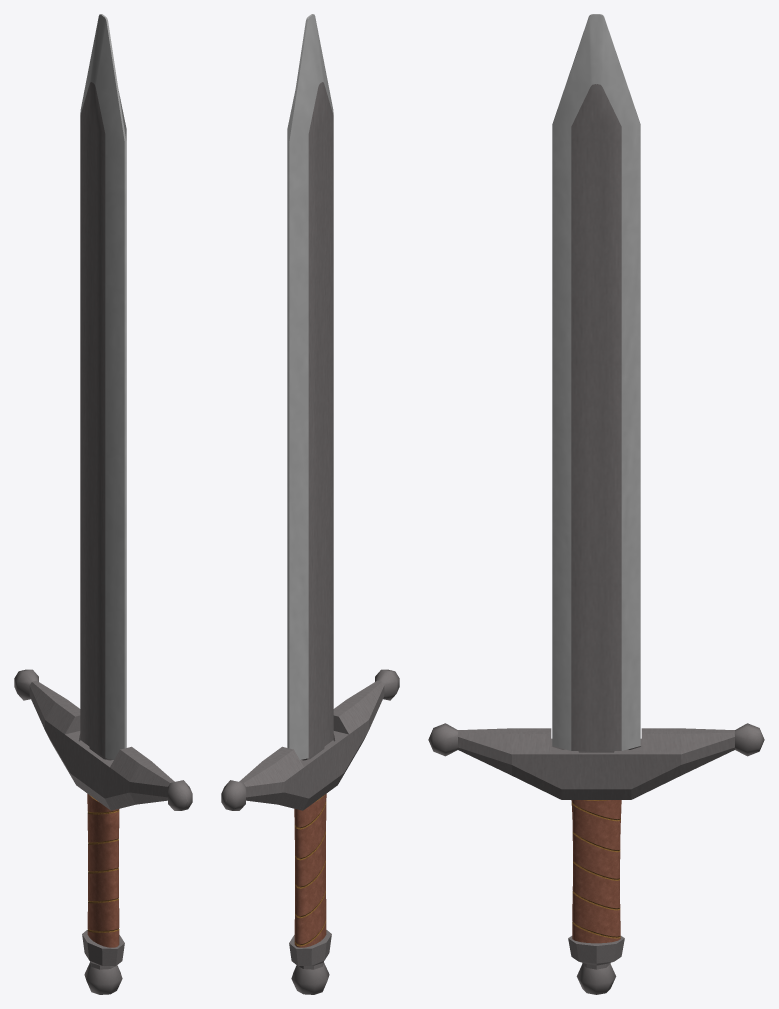
Rendered from Sword_Standard_old.fbx.
The picture shows the model from 3 angles, left to right: view 1: azimuth 30°, elevation 25°; view 2: azimuth 150°, elevation 25°; view 3: azimuth 270°, elevation 25°; orthographic projection.
Parts seen in each view (by area): view 1: Standard_Blade, Standard_Hilt, Standard_Handle, Standard_Pommel; view 2: Standard_Blade, Standard_Hilt, Standard_Handle, Standard_Pommel; view 3: Standard_Blade, Standard_Hilt, Standard_Handle, Standard_Pommel.
Part boxes in pixels (x1,y1,x2,y2): Standard_Blade: (80, 14, 126, 760); Standard_Hilt: (14, 669, 192, 810); Standard_Handle: (87, 793, 119, 947); Standard_Pommel: (82, 929, 124, 994); Standard_Blade: (287, 14, 333, 760); Standard_Hilt: (221, 669, 399, 810); Standard_Handle: (294, 793, 326, 947); Standard_Pommel: (289, 930, 331, 994); Standard_Blade: (552, 14, 640, 752); Standard_Hilt: (428, 723, 764, 799); Standard_Handle: (571, 800, 621, 943); Standard_Pommel: (568, 936, 624, 994).
Bounding box in the file's own units: 6.33 × 173 × 53.79.
